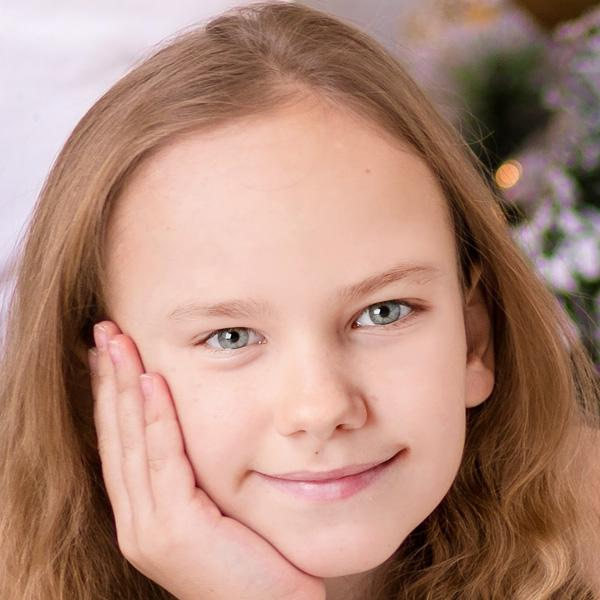Eyes: (338, 289, 434, 342), (179, 315, 276, 362)
